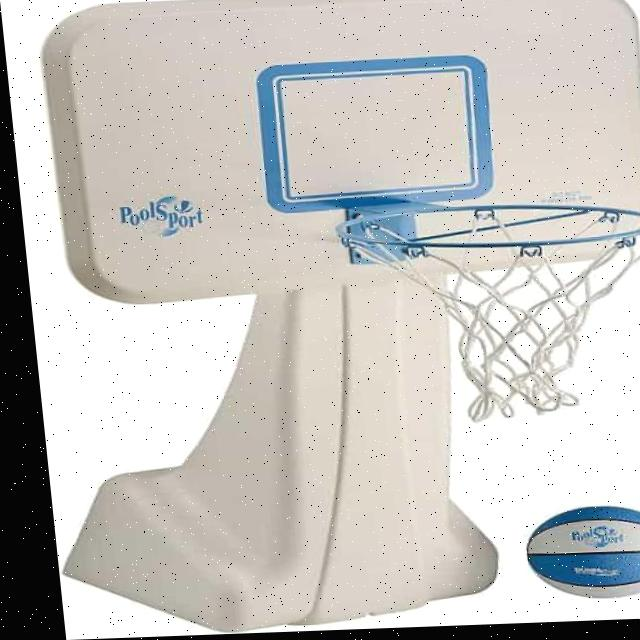Basketball: (522, 502, 640, 600)
hoop: (334, 197, 640, 426)
